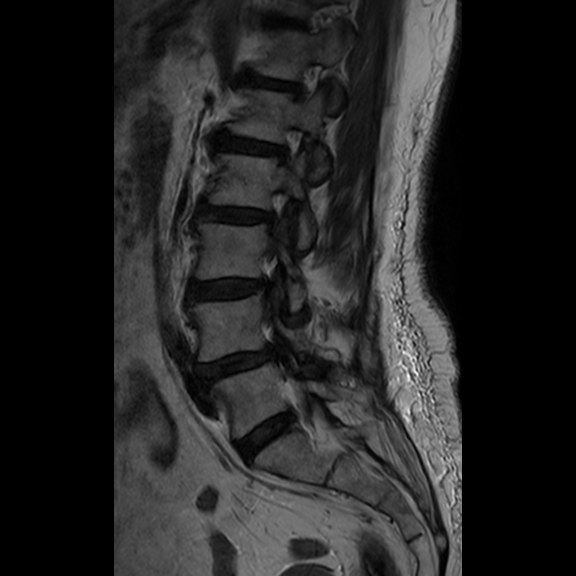LFS0: (267, 111, 317, 174)
